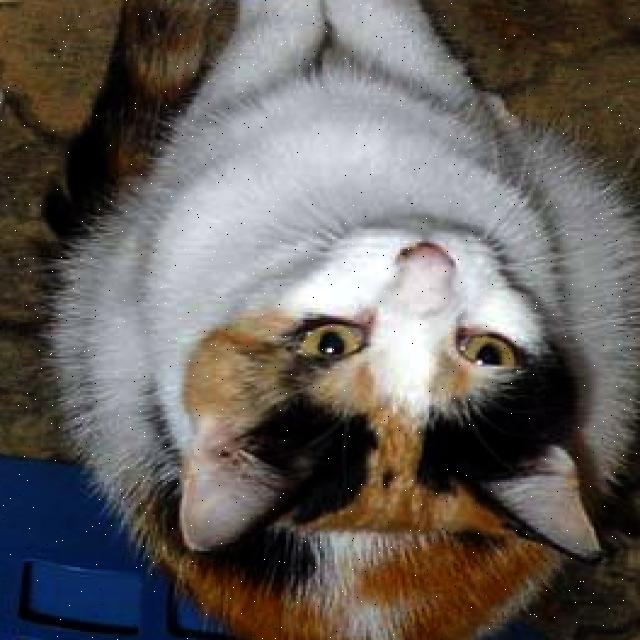Cat: (142, 212, 612, 563)
